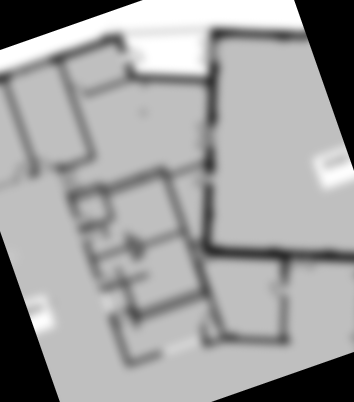door: (158, 164, 209, 298), (58, 166, 83, 195), (268, 275, 293, 303), (93, 270, 118, 294), (196, 308, 222, 330), (31, 152, 53, 177), (66, 79, 89, 102), (123, 43, 146, 66), (108, 307, 131, 329), (78, 226, 100, 246), (351, 269, 354, 307)
double door: (283, 242, 320, 276), (188, 116, 219, 155), (192, 34, 221, 67), (72, 209, 96, 231), (189, 169, 213, 191)
wall: (209, 0, 308, 70), (281, 215, 354, 293), (198, 220, 284, 285), (129, 49, 212, 109), (55, 57, 100, 158), (187, 59, 240, 128), (45, 28, 124, 65), (194, 260, 228, 341), (227, 321, 286, 365), (266, 294, 305, 346), (332, 296, 354, 354), (60, 153, 97, 171), (111, 29, 129, 56), (120, 60, 139, 85)
window: (230, 10, 278, 55), (4, 52, 55, 87), (11, 160, 33, 184)
